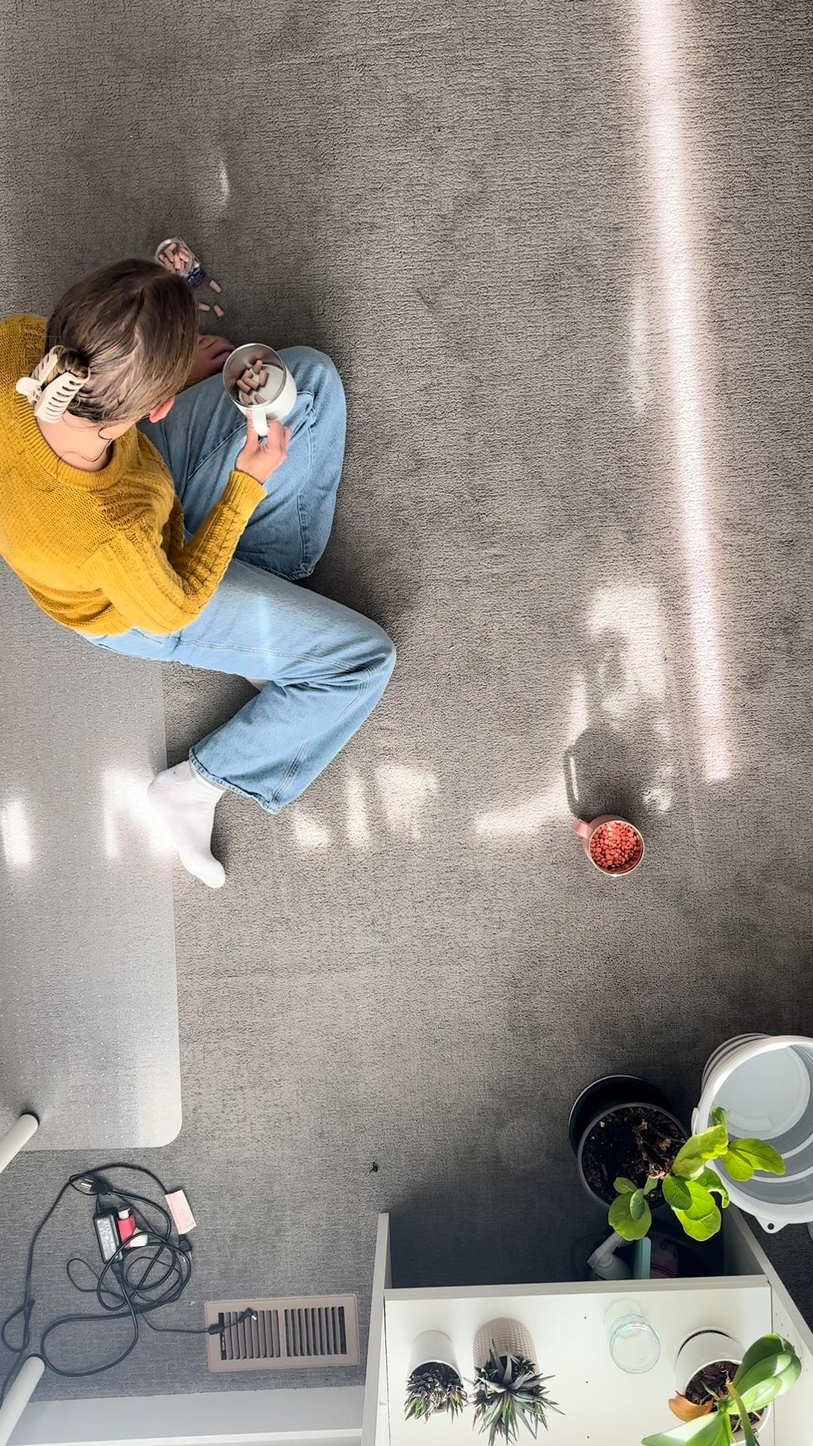IBC: (218, 331, 301, 442), (570, 808, 654, 883)
